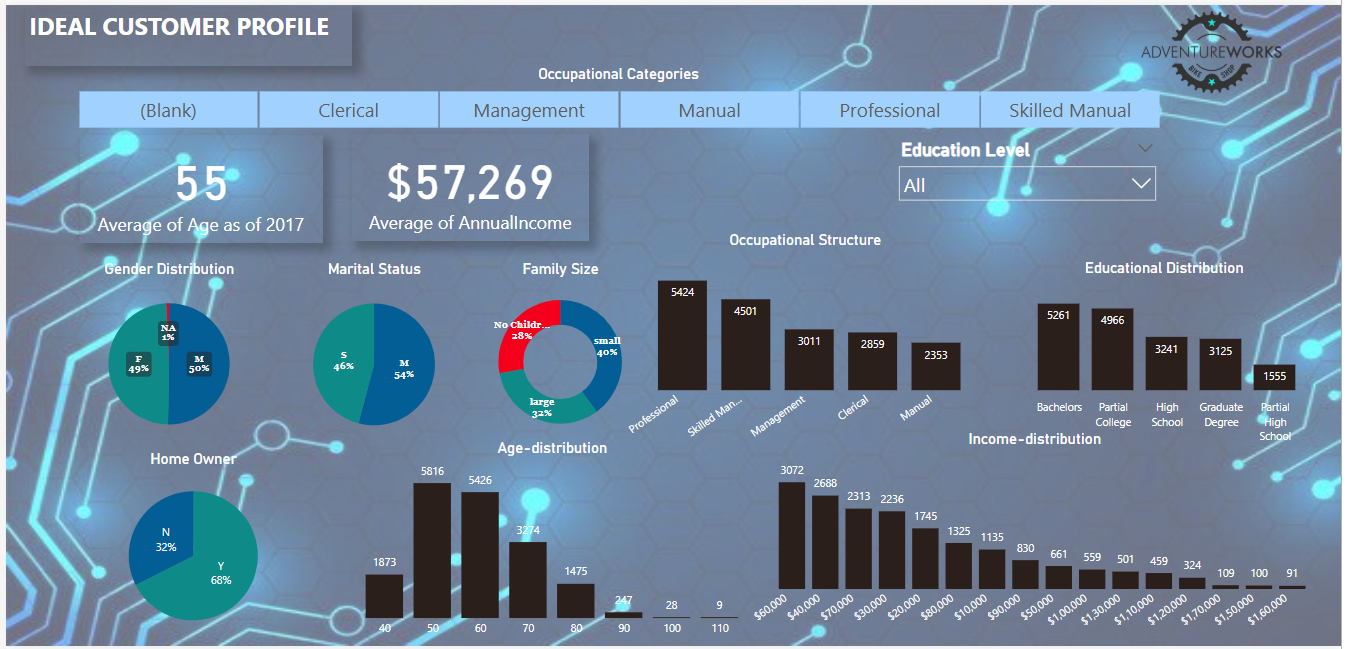

The dashboard page shown, as its layout file describes it:
{"tool":"powerbi","page":{"name":"Page 1","canvas":[1280,720],"ordinal":0},"visuals":[{"type":"textbox","box":[21.6,0,367.9,67.8],"z":0},{"type":"pieChart","title":"Gender Distribution","fields":{"Category":["AW_Customers.Gender"],"Y":["CountNonNull(AW_Customers.CustomerKey)"]},"box":[44.3,286.4,255.3,214.5],"z":1000},{"type":"pieChart","title":"Marital Status","fields":{"Y":["CountNonNull(AW_Customers.CustomerKey)"],"Category":["AW_Customers.MaritalStatus"]},"box":[275,286.4,255.7,215.9],"z":2000},{"type":"pieChart","title":"Home Owner","fields":{"Category":["AW_Customers.HomeOwner"],"Y":["CountNonNull(AW_Customers.CustomerKey)"]},"box":[31.7,500.6,268.4,217.9],"z":3000},{"type":"clusteredColumnChart","title":"Age-distribution","fields":{"Y":["CountNonNull(AW_Customers.CustomerKey)"],"Category":["AW_Customers.Age (bins)"]},"box":[282.8,500.6,419.8,217.9],"z":4000},{"type":"donutChart","title":"Family Size","fields":{"Y":["CountNonNull(AW_Customers.CustomerKey)"],"Category":["AW_Customers.Family Size"]},"box":[485.2,286.4,256.8,214.8],"z":5000},{"type":"clusteredColumnChart","title":"Income-distribution","fields":{"Y":["CountNonNull(AW_Customers.CustomerKey)"],"Category":["AW_Customers.AnnualIncome"]},"box":[714.2,502.1,538.2,217.9],"z":6000},{"type":"slicer","title":"Occupational Categories","fields":{"Values":["AW_Customers.Occupation"]},"box":[56.3,79.4,1148.4,66.4],"z":7000},{"type":"slicer","fields":{"Values":["AW_Customers.EducationLevel"]},"box":[896,145.7,308.8,66.4],"z":8000},{"type":"card","fields":{"Values":["Avg(AW_Customers.Age as of 2017)"]},"box":[82.2,145.7,217.9,121.2],"z":9000},{"type":"card","fields":{"Values":["Avg(AW_Customers.AnnualIncome)"]},"box":[348.9,145.5,219.3,121.6],"z":10000},{"type":"clusteredColumnChart","title":"Occupational Structure","fields":{"Y":["CountNonNull(AW_Customers.CustomerKey)"],"Category":["AW_Customers.Occupation"]},"box":[702.3,286.4,309.1,214.8],"z":11000},{"type":"clusteredColumnChart","title":"Educational Distribution","fields":{"Y":["CountNonNull(AW_Customers.CustomerKey)"],"Category":["AW_Customers.EducationLevel"]},"box":[998.9,286.4,280.7,214.8],"z":12000},{"type":"image","box":[984,0,290,106.8],"z":13000}]}

Visuals, with their boxes on the page's 1280x720 design canvas (x1, y1, x2, y2). These are canvas units, not pixel positions in the 1347x649 screenshot, which may show the page scaled, cropped or inside an application window:
textbox: (22,0,390,68)
"Gender Distribution" pieChart: (44,286,300,501)
"Marital Status" pieChart: (275,286,531,502)
"Home Owner" pieChart: (32,501,300,718)
"Age-distribution" clusteredColumnChart: (283,501,703,718)
"Family Size" donutChart: (485,286,742,501)
"Income-distribution" clusteredColumnChart: (714,502,1252,720)
"Occupational Categories" slicer: (56,79,1205,146)
slicer - AW_Customers.EducationLevel: (896,146,1205,212)
card - Avg(AW_Customers.Age as of 2017): (82,146,300,267)
card - Avg(AW_Customers.AnnualIncome): (349,146,568,267)
"Occupational Structure" clusteredColumnChart: (702,286,1011,501)
"Educational Distribution" clusteredColumnChart: (999,286,1280,501)
image: (984,0,1274,107)
